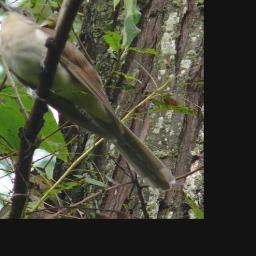Cuckoo: (0, 0, 176, 192)
